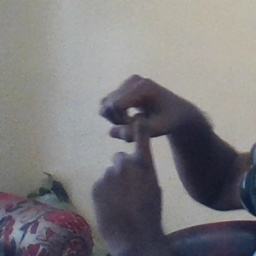Q: (86, 72, 186, 214)
